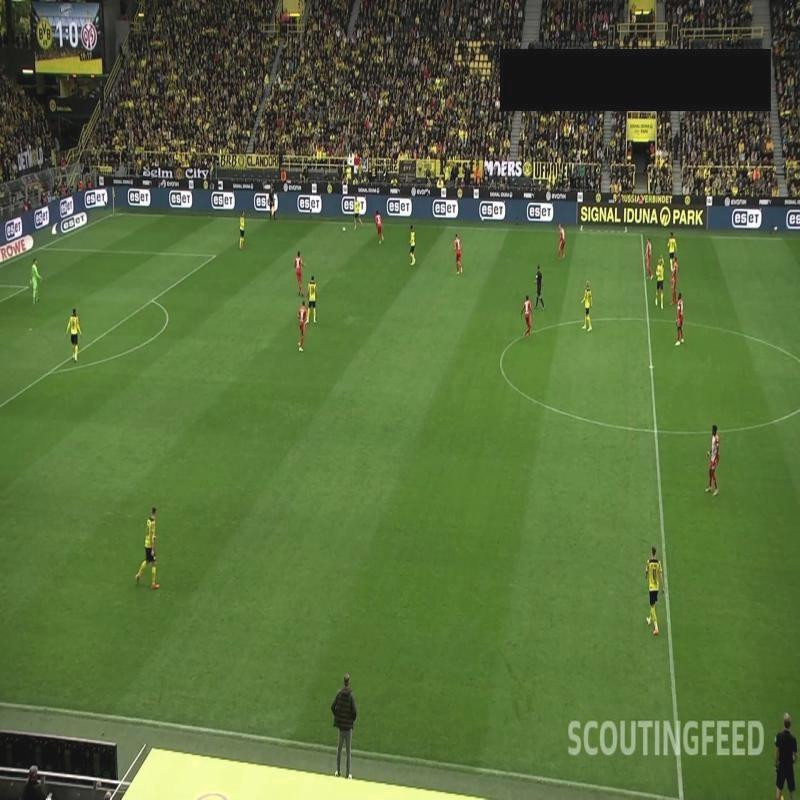1: (106, 208, 120, 222)
10: (146, 292, 160, 306)
11: (44, 364, 58, 378)
13: (635, 228, 649, 242)
14: (642, 311, 656, 325)
15: (648, 423, 662, 437)
2: (34, 242, 48, 255)
7: (21, 280, 35, 294)
9: (208, 249, 222, 262)
c: (493, 355, 508, 369)
